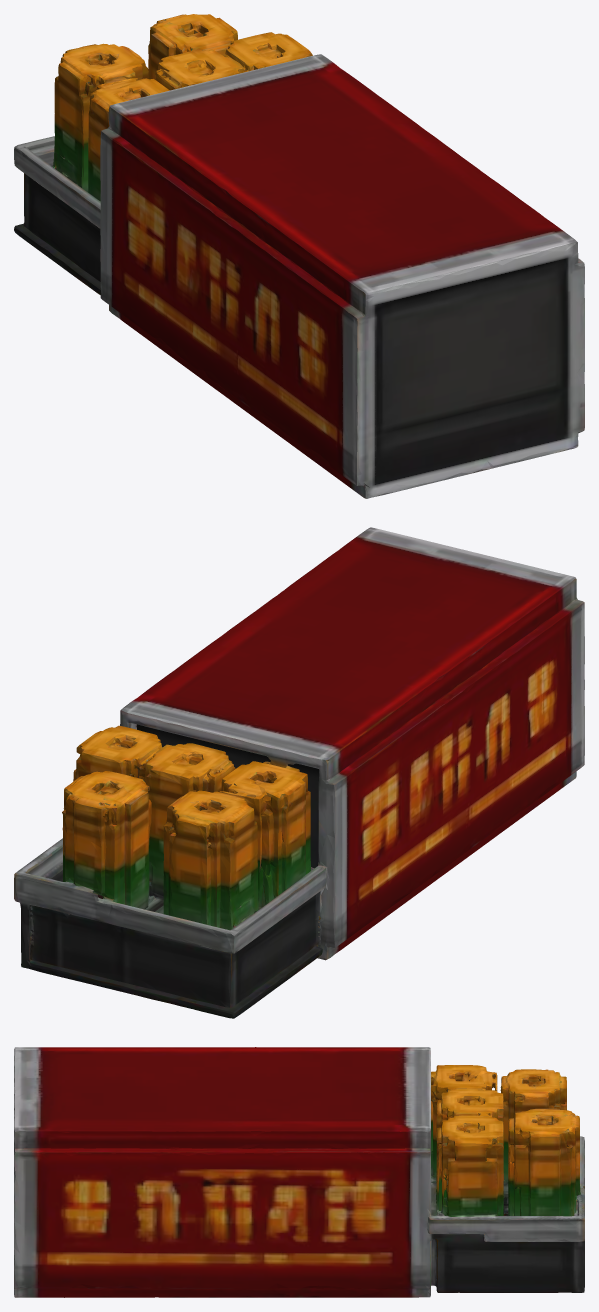
File: SBOXA0.obj
3 views of the same model, one above another, from view 1: azimuth 30°, elevation 25°; view 2: azimuth 150°, elevation 25°; view 3: azimuth 270°, elevation 25° (orthographic). The views are drawn at different scales.
Visible parts, largest first — view 1: geometry_0; view 2: geometry_0; view 3: geometry_0.
Part boxes in pixels (<box>): geometry_0: <box>14,14,584,498</box>; geometry_0: <box>14,527,584,1018</box>; geometry_0: <box>14,1047,584,1297</box>.
Size of the model in its own units: 0.3876 by 0.3252 by 1.
1 material, 1 textured.
